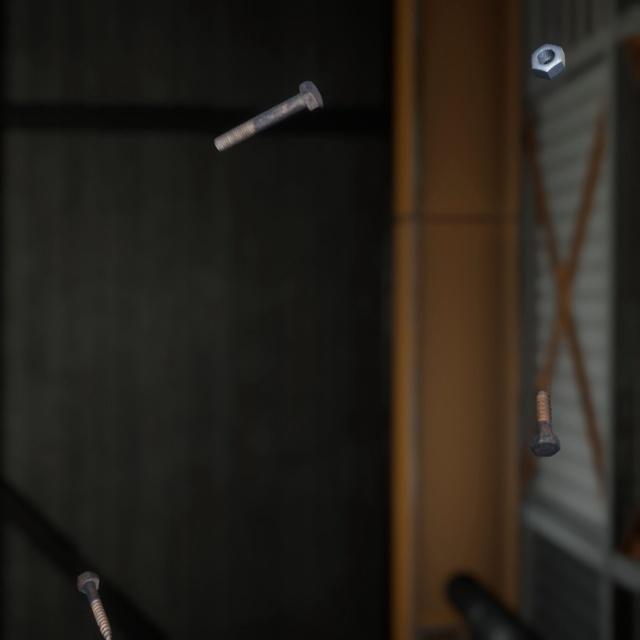bolt: (209, 63, 327, 143), (72, 544, 116, 622), (525, 366, 564, 441)
nut: (526, 29, 569, 73)
